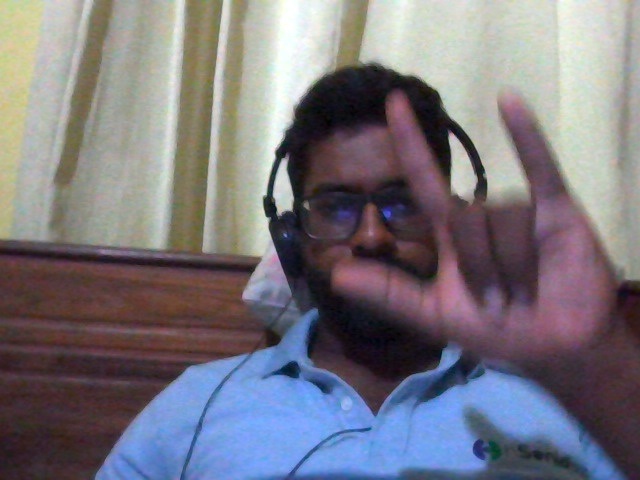I Love You: (329, 73, 626, 394)
